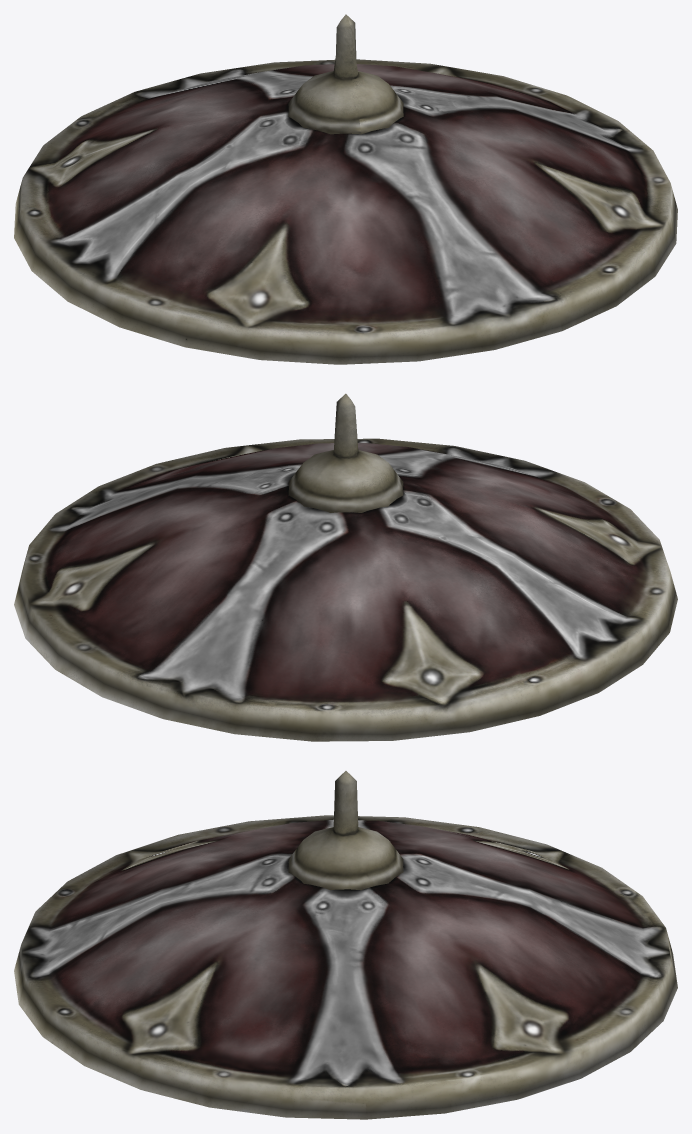
File: Knight_Shield_01.fbx
3 renders of one model, top to bottom at view 1: azimuth 30°, elevation 25°; view 2: azimuth 150°, elevation 25°; view 3: azimuth 270°, elevation 25°, orthographic.
Parts seen in each view (by area): view 1: knight_shield; view 2: knight_shield; view 3: knight_shield.
Part boxes in pixels (x1=…): knight_shield: x1=14, y1=14, x2=677, y2=364; knight_shield: x1=14, y1=393, x2=677, y2=741; knight_shield: x1=14, y1=771, x2=677, y2=1119.
Size of the model in its own units: 0.9327 by 0.3519 by 0.9327.
Materials: 1 (1 with a texture image).
